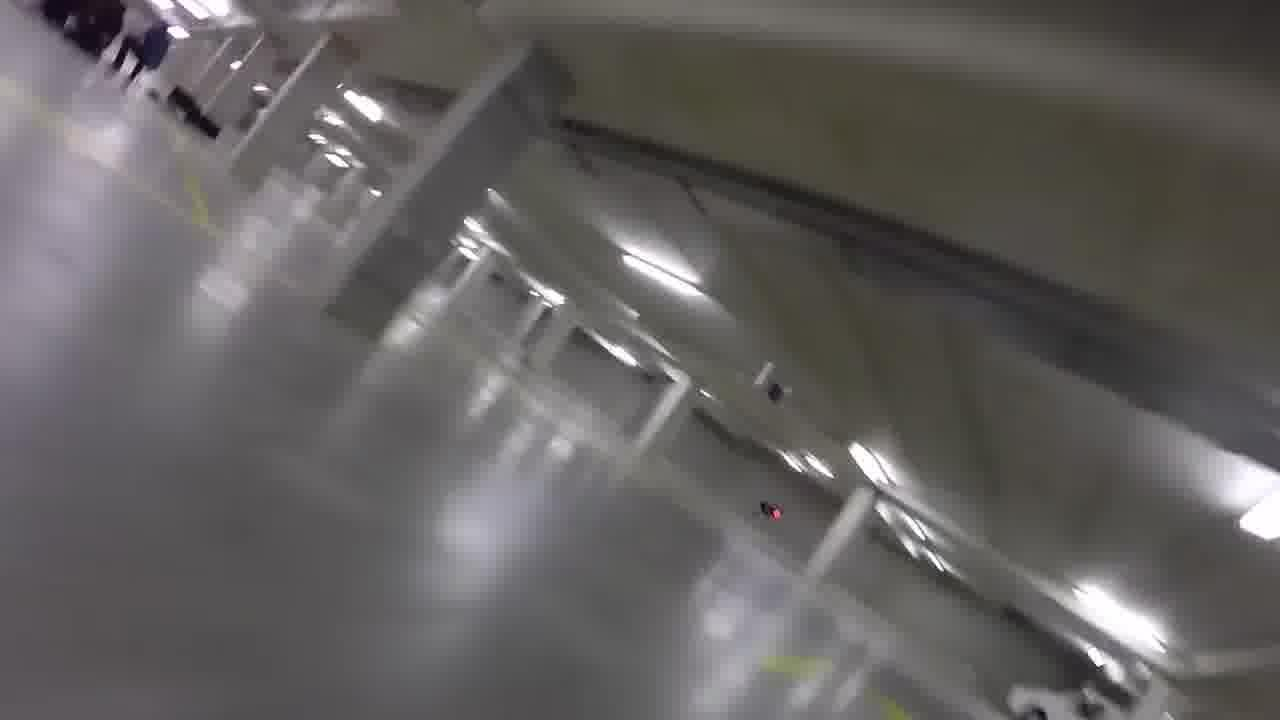drone: (750, 491, 787, 528)
